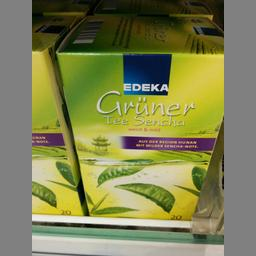tea: (54, 14, 223, 220)
